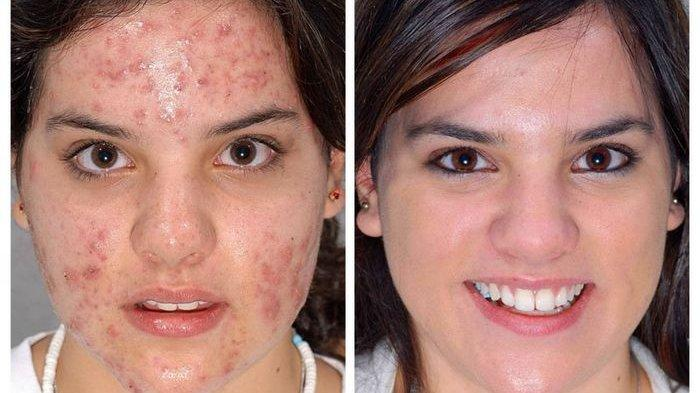Acne: (72, 6, 291, 149), (24, 211, 131, 376), (241, 227, 321, 346), (153, 341, 244, 390)
